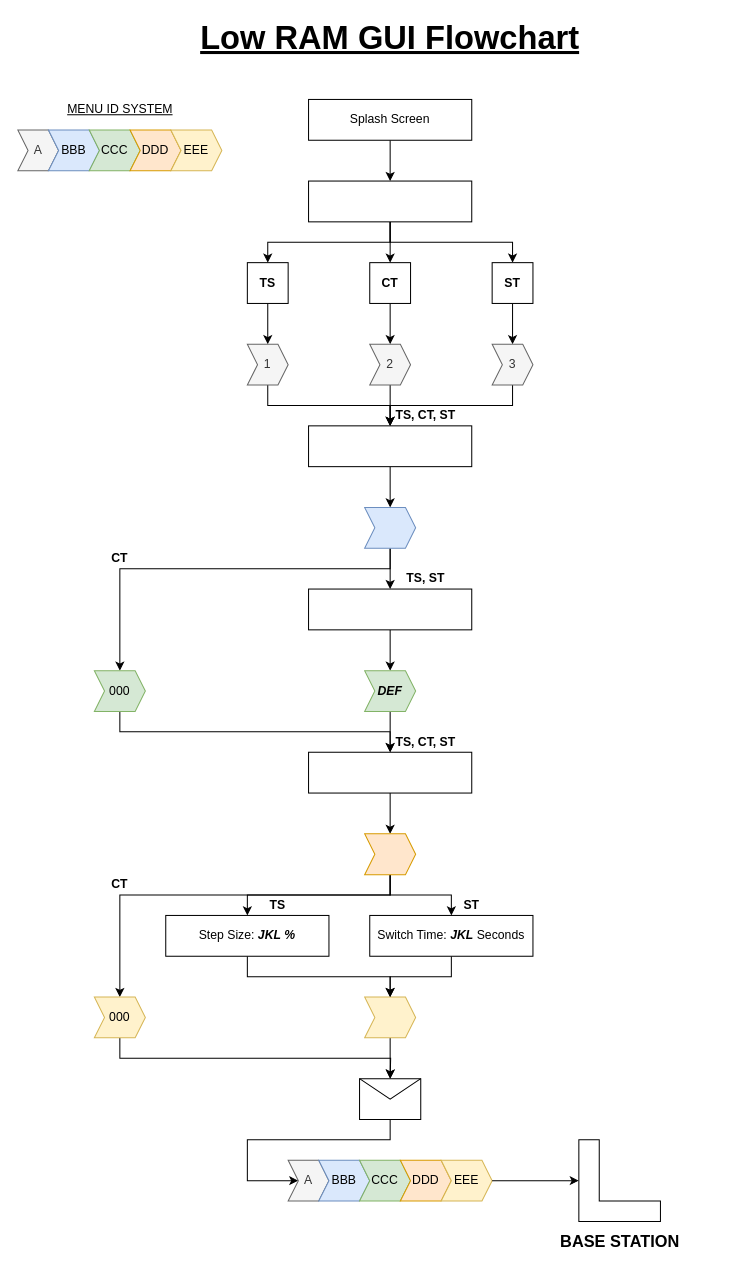
Image size: 734x1269. Some labels were removed from this diagram. Here are the shapes that lost their labels. From the top down, the centre of each, then its label:
At point 390,201: "Select Button".
At point 390,446: "Initial Throttle: ABC %".
At point 390,527: "ABC".
At point 390,609: "Secondary Throttle: DEF %".
At point 390,772: "Test Time: GHI Seconds".
At point 390,854: "GHI".
At point 390,1017: "JKL".
At point 390,1098: "SEND".
